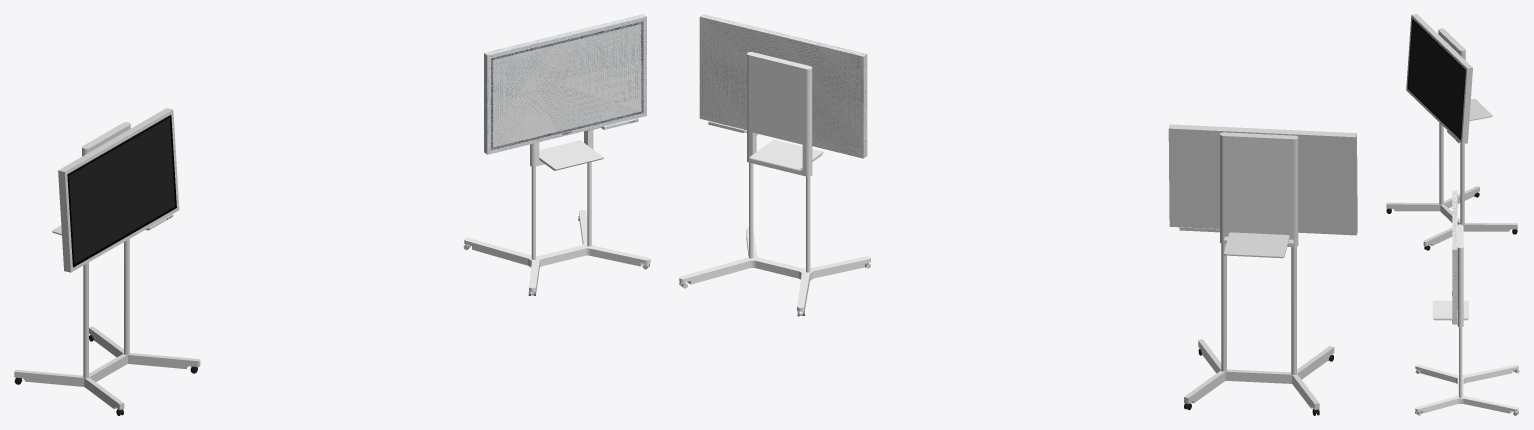
Rendered from modeltv.obj.
3 renders of one model, left to right at view 1: azimuth 30°, elevation 25°; view 2: azimuth 150°, elevation 25°; view 3: azimuth 270°, elevation 25°, orthographic. The views are drawn at different scales.
Visible parts, largest first — view 1: 130_130, 25_212, 131_131, 124_124, 29_216, 162_162, 62_249, 128_128, 170_170, 27_214, 63_250, 125_125 (+2 smaller); view 2: 124_124, 29_216, 11_198, 164_164, 125_125, 162_162, 19_206, 170_170, 63_250, 15_202, 62_249, 7_194 (+1 smaller); view 3: 25_212, 162_162, 29_216, 63_250, 124_124, 164_164, 170_170, 62_249, 27_214, 9_196, 7_194, 19_206 (+4 smaller).
Boxes of the visible parts, x1,y1,x2,y2 form: 130_130: (493,24,641,147); 25_212: (69,118,174,263); 131_131: (493,24,641,146); 124_124: (484,14,646,154); 29_216: (58,108,179,272); 162_162: (464,210,650,291); 62_249: (14,353,197,386); 128_128: (491,21,643,150); 170_170: (539,140,604,170); 27_214: (67,115,176,267); 63_250: (84,326,124,409); 125_125: (484,15,646,153); 124_124: (699,14,867,158); 29_216: (1168,124,1357,235); 11_198: (1220,132,1298,247); 164_164: (747,52,812,176); 125_125: (700,15,867,156); 162_162: (679,227,870,311); 19_206: (1224,232,1289,258); 170_170: (749,139,823,171); 63_250: (1184,346,1334,403); 15_202: (1225,369,1291,383); 62_249: (1198,340,1319,409); 7_194: (1291,247,1296,374); 25_212: (1408,21,1464,136); 162_162: (1415,364,1518,413); 29_216: (1406,14,1472,143); 63_250: (1386,202,1517,231); 124_124: (1452,190,1457,324); 164_164: (1457,225,1463,327); 170_170: (1432,300,1468,320); 62_249: (1425,186,1479,245); 27_214: (1407,19,1465,139); 9_196: (1460,144,1464,224); 7_194: (1439,122,1443,204); 19_206: (1469,98,1492,121).
Size of the model in its own units: 503 by 189 by 124.
Materials: 12 (1 with a texture image).
